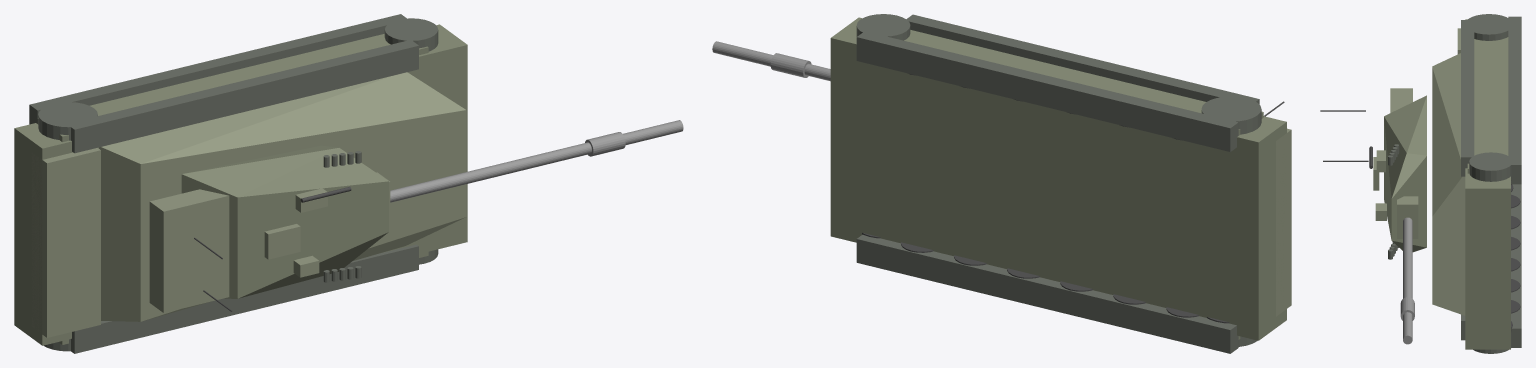
File: challenger2_lowpoly.glb
The picture shows the model from 3 angles, left to right: view 1: azimuth 30°, elevation 25°; view 2: azimuth 150°, elevation 25°; view 3: azimuth 270°, elevation 25°; orthographic projection. The views are drawn at different scales.
Visible parts, largest first — view 1: part_1, part_29, part_4, part_18, part_0, part_30, part_6, part_17, part_3, part_32, part_20, part_19 (+3 smaller); view 2: part_0, part_17, part_5, part_18, part_3, part_4, part_20, part_19, part_32, part_33; view 3: part_1, part_0, part_29, part_3, part_17, part_18, part_5, part_19, part_32, part_20, part_31, part_30 (+4 smaller).
Boxes of the visible parts, x1,y1,x2,y2 form: part_1: (99, 72, 466, 321); part_29: (181, 145, 388, 298); part_4: (31, 148, 100, 337); part_18: (66, 40, 418, 153); part_0: (14, 24, 467, 345); part_30: (149, 189, 229, 312); part_6: (71, 244, 418, 353); part_17: (29, 14, 408, 124); part_3: (37, 34, 428, 142); part_32: (390, 120, 683, 202); part_20: (38, 102, 97, 140); part_19: (384, 18, 438, 51); part_0: (830, 17, 1286, 340); part_17: (856, 31, 1238, 151); part_5: (856, 234, 1238, 353); part_18: (905, 14, 1259, 104); part_3: (904, 30, 1263, 135); part_4: (1276, 128, 1291, 316); part_20: (1201, 97, 1261, 134); part_19: (856, 14, 910, 40); part_32: (712, 41, 830, 81); part_33: (770, 53, 811, 77); part_1: (1432, 53, 1465, 315); part_0: (1465, 19, 1510, 349); part_29: (1384, 95, 1426, 252); part_3: (1467, 37, 1508, 173); part_17: (1508, 16, 1521, 184); part_18: (1461, 20, 1474, 176); part_5: (1511, 184, 1521, 347); part_19: (1469, 152, 1511, 183); part_32: (1403, 217, 1412, 344); part_20: (1465, 14, 1512, 40); part_31: (1397, 196, 1418, 238); part_30: (1390, 88, 1412, 112).
Size of the model in its own units: 11.2 by 3.98 by 3.96.
